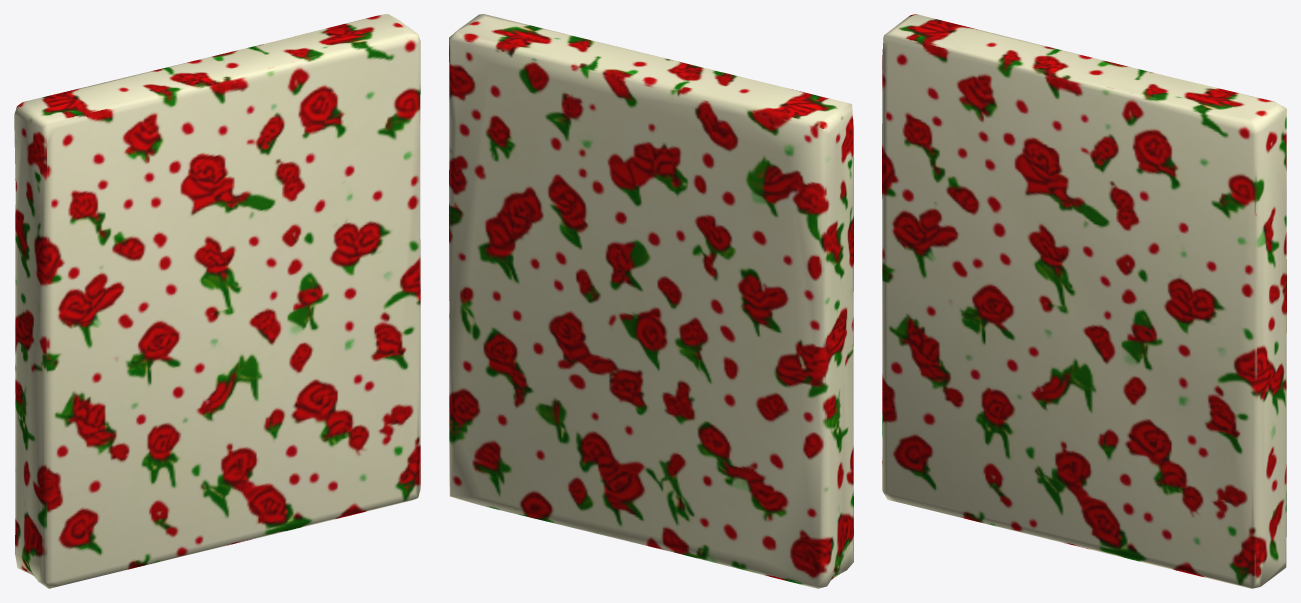
File: floral-wallpaper-wall.glb
3 renders of one model, left to right at view 1: azimuth 30°, elevation 25°; view 2: azimuth 150°, elevation 25°; view 3: azimuth 330°, elevation 25°, orthographic.
Visible parts, largest first — view 1: geometry_0.001; view 2: geometry_0.001; view 3: geometry_0.001.
Part boxes in pixels (left/top/right/bottom): geometry_0.001: left=14, top=14, right=420, bottom=588; geometry_0.001: left=449, top=14, right=853, bottom=588; geometry_0.001: left=882, top=14, right=1286, bottom=588.
Bounding box in the file's own units: 0.8497 × 0.9989 × 0.1262.
1 material, 1 textured.
